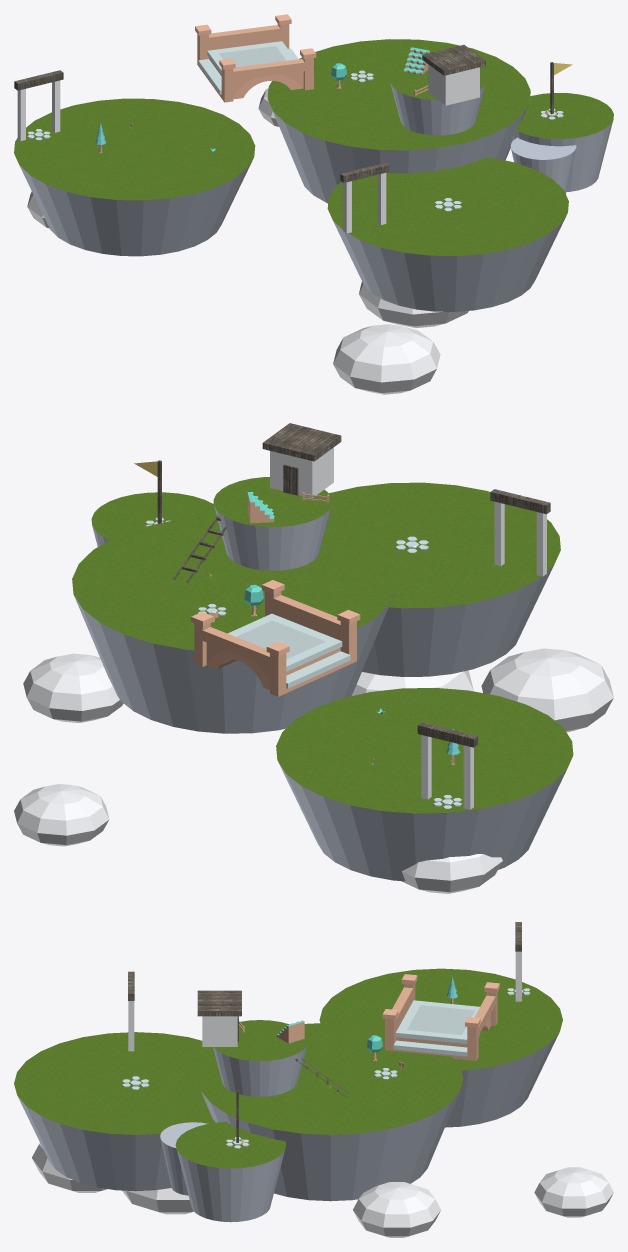
Rendered from world7_cloud.glb.
The picture shows the model from 3 angles, top to bottom: view 1: azimuth 30°, elevation 25°; view 2: azimuth 150°, elevation 25°; view 3: azimuth 270°, elevation 25°; orthographic projection. The views are drawn at different scales.
Visible parts, largest first — view 1: W7_Isle_A, W7_Isle_D, W7_Isle_B, bridge_woodRound, W7_Puff3, W7_Isle_C, W7_Isle_Mesa, W7_Isle_Estep, W7_Puff1, W7_HutBase, W7_HutRoof, W7_ArchExit_Top (+1 smaller); view 2: W7_Isle_A, W7_Isle_B, W7_Isle_D, bridge_woodRound, W7_Isle_Mesa, W7_Puff3, W7_Puff2, W7_Puff4, W7_Isle_C, W7_Puff0, W7_HutBase, W7_HutRoof (+7 smaller); view 3: W7_Isle_B, W7_Isle_D, W7_Isle_A, W7_Isle_C, bridge_woodRound, W7_Isle_Mesa, W7_Puff2, W7_Puff4, W7_Puff1, W7_Isle_Estep, W7_HutRoof, W7_HutBase (+2 smaller).
Part boxes in pixels (x1,y1,x2,y2): W7_Isle_A: (14, 98, 255, 256); W7_Isle_D: (327, 157, 568, 311); W7_Isle_B: (267, 39, 530, 203); bridge_woodRound: (195, 14, 316, 102); W7_Puff3: (333, 324, 440, 394); W7_Isle_C: (511, 93, 613, 191); W7_Isle_Mesa: (390, 65, 486, 135); W7_Isle_Estep: (510, 137, 576, 193); W7_Puff1: (359, 282, 468, 327); W7_HutBase: (428, 64, 479, 105); W7_HutRoof: (422, 44, 485, 75); W7_ArchExit_Top: (340, 162, 389, 182); W7_Isle_A: (276, 688, 573, 881); W7_Isle_B: (72, 516, 396, 733); W7_Isle_D: (326, 482, 560, 676); bridge_woodRound: (191, 580, 360, 696); W7_Isle_Mesa: (213, 477, 332, 570); W7_Puff3: (481, 648, 613, 732); W7_Puff2: (23, 653, 123, 722); W7_Puff4: (14, 784, 109, 846); W7_Isle_C: (91, 492, 216, 546); W7_Puff0: (401, 854, 502, 893); W7_HutBase: (270, 447, 333, 498); W7_HutRoof: (262, 423, 341, 461); W7_Isle_B: (198, 1022, 463, 1201); W7_Isle_D: (14, 1032, 215, 1191); W7_Isle_A: (319, 968, 562, 1127); W7_Isle_C: (175, 1122, 286, 1222); bridge_woodRound: (382, 974, 499, 1060); W7_Isle_Mesa: (213, 1020, 308, 1096); W7_Puff2: (353, 1182, 440, 1237); W7_Puff4: (534, 1167, 613, 1217); W7_Puff1: (122, 1188, 193, 1214); W7_Isle_Estep: (160, 1122, 207, 1195); W7_HutRoof: (197, 990, 241, 1016); W7_HutBase: (202, 1016, 237, 1046).
Bounding box in the file's own units: 24.8 × 12.45 × 27.1.
18 materials, 2 textured.
